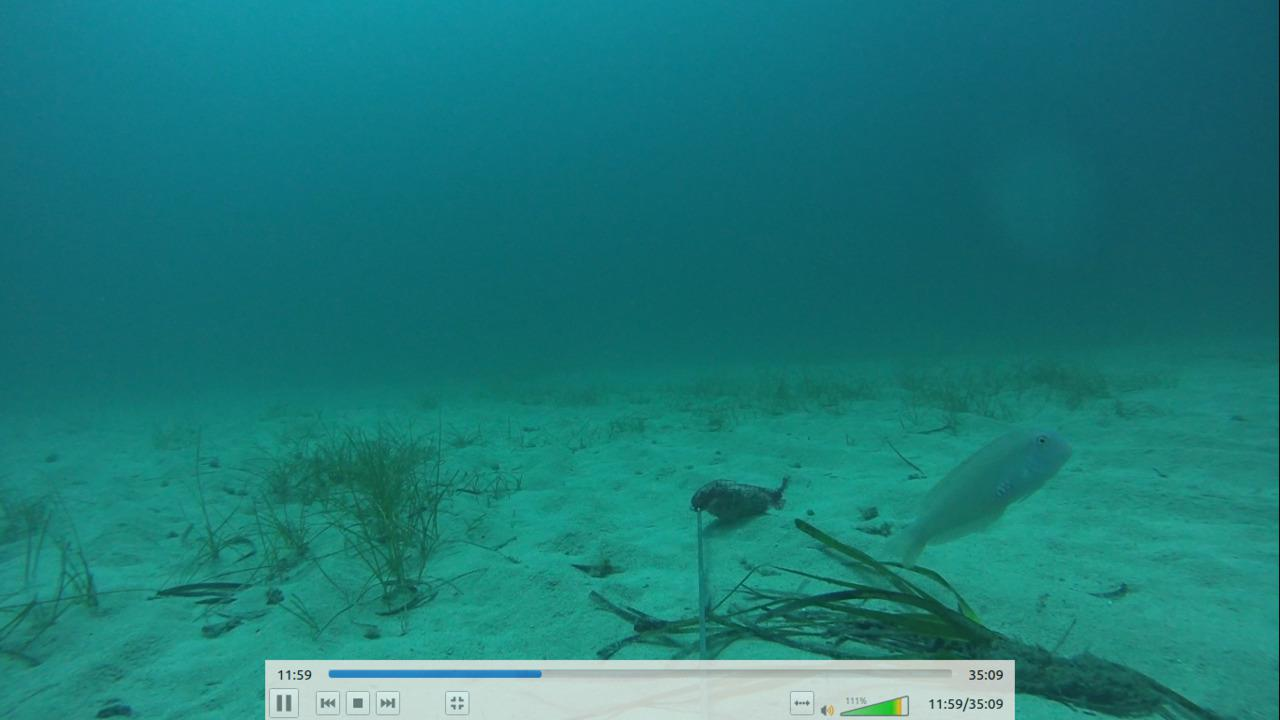raor: (885, 421, 1075, 575)
